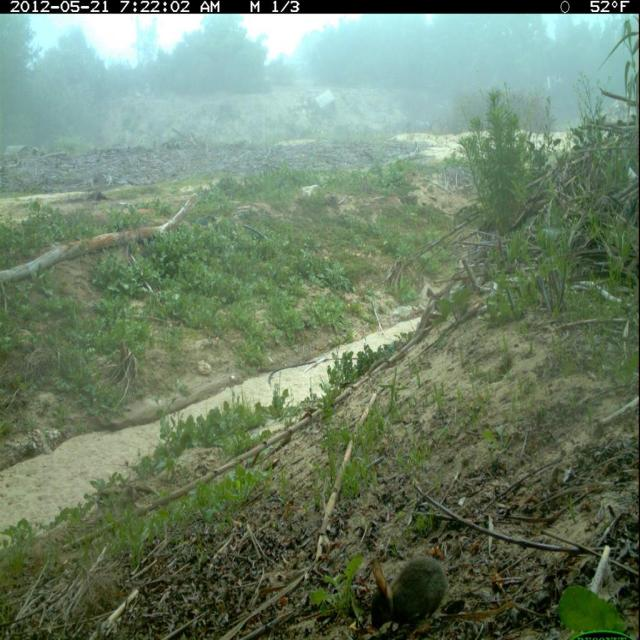rabbit: (358, 554, 452, 630)
